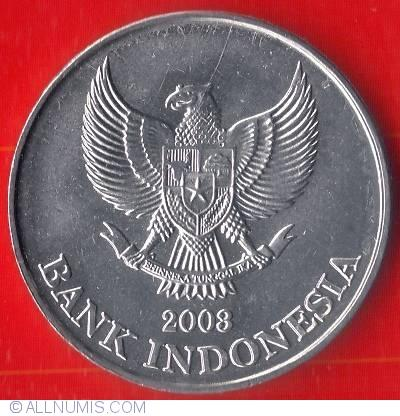coin_500_e2003: (6, 8, 392, 395)
